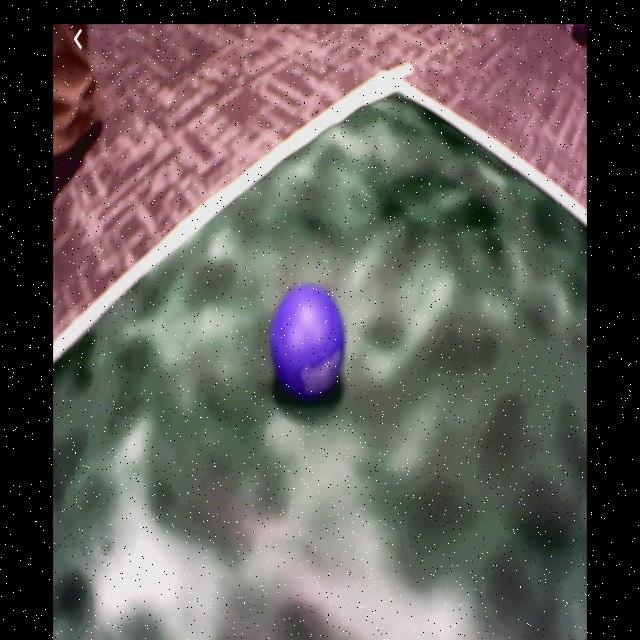ball: (271, 283, 346, 399)
